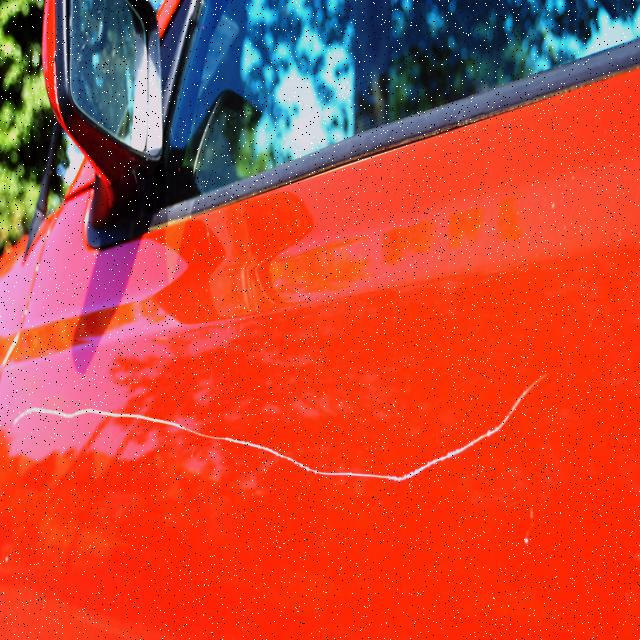doorouter-dent: (56, 112, 636, 640)
